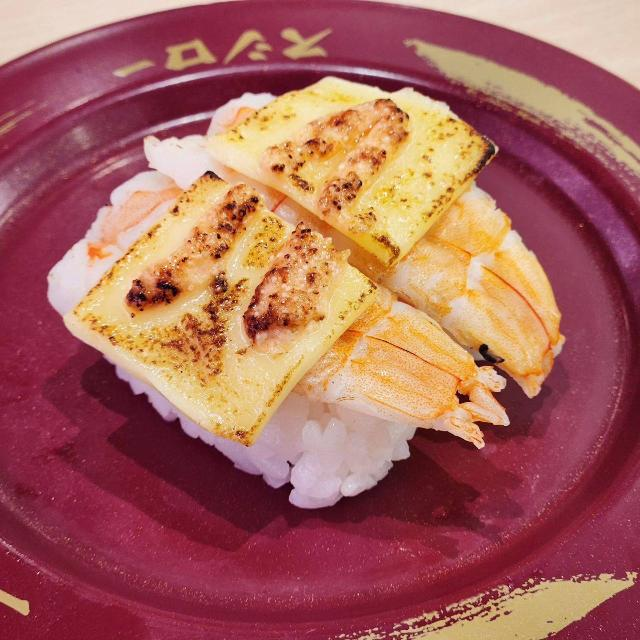janred: (35, 50, 640, 630)
